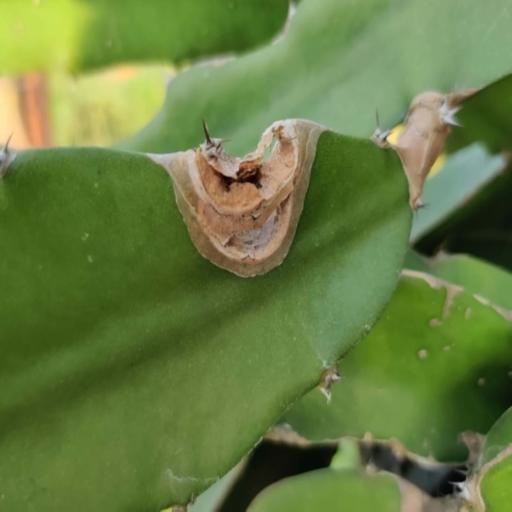stemcanker: (80, 249, 112, 281), (463, 372, 490, 404), (412, 344, 438, 377), (462, 299, 487, 333), (79, 222, 103, 250), (84, 174, 108, 202), (430, 310, 453, 338), (428, 423, 447, 439), (418, 438, 436, 454)
